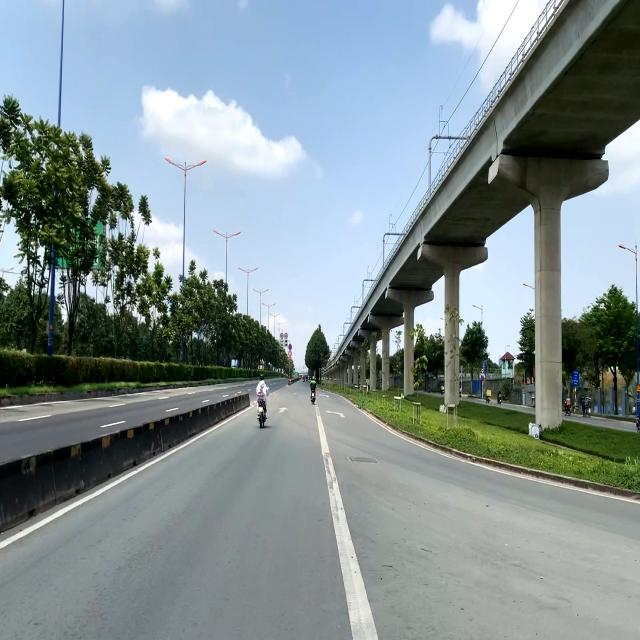P.130: (288, 344, 292, 351)
